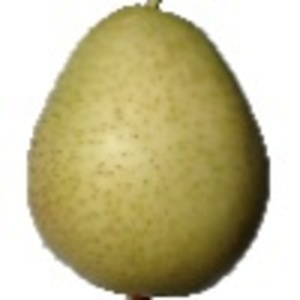pera: (25, 1, 271, 300)
